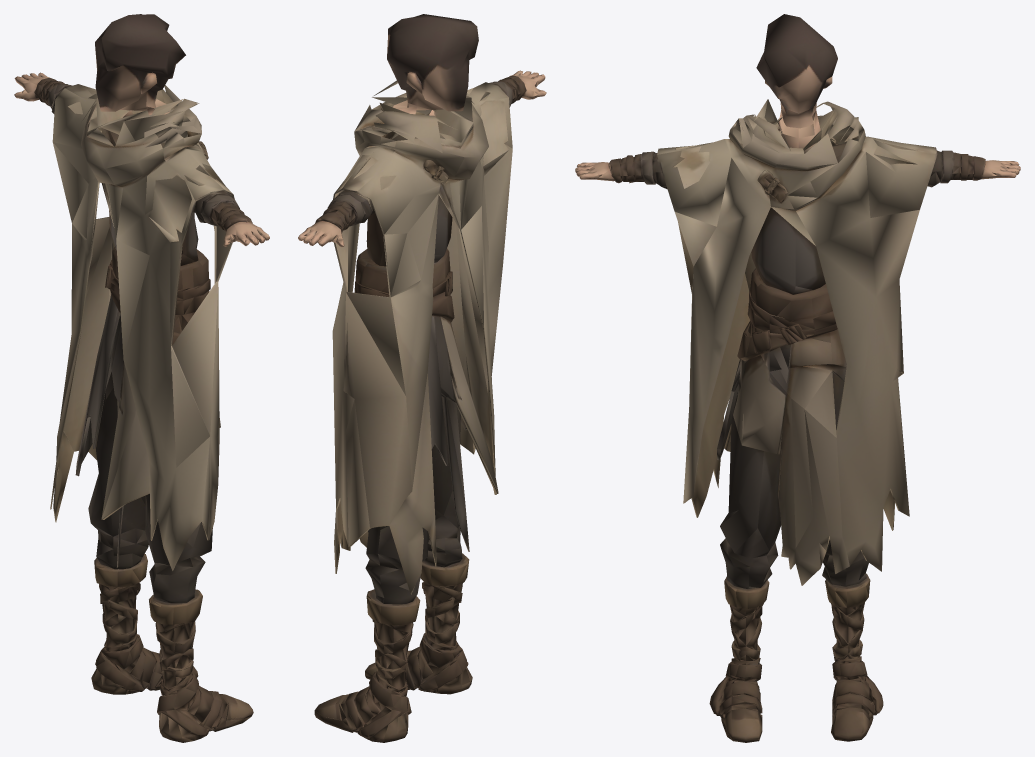
File: char_player_bodyfix.glb
3 renders of one model, left to right at view 1: azimuth 30°, elevation 25°; view 2: azimuth 150°, elevation 25°; view 3: azimuth 270°, elevation 25°, orthographic. The views are drawn at different scales.
Visible parts, largest first — view 1: tripo_node_a38a1dcd-5020-4025-bec0-ba2b309e82f7; view 2: tripo_node_a38a1dcd-5020-4025-bec0-ba2b309e82f7; view 3: tripo_node_a38a1dcd-5020-4025-bec0-ba2b309e82f7.
Boxes of the visible parts, left/top/right/bottom form: tripo_node_a38a1dcd-5020-4025-bec0-ba2b309e82f7: left=14, top=14, right=269, bottom=742; tripo_node_a38a1dcd-5020-4025-bec0-ba2b309e82f7: left=298, top=14, right=546, bottom=742; tripo_node_a38a1dcd-5020-4025-bec0-ba2b309e82f7: left=575, top=14, right=1020, bottom=742.
Size of the model in its own units: 0.209 by 0.998 by 0.5957.
1 material, 1 textured.
